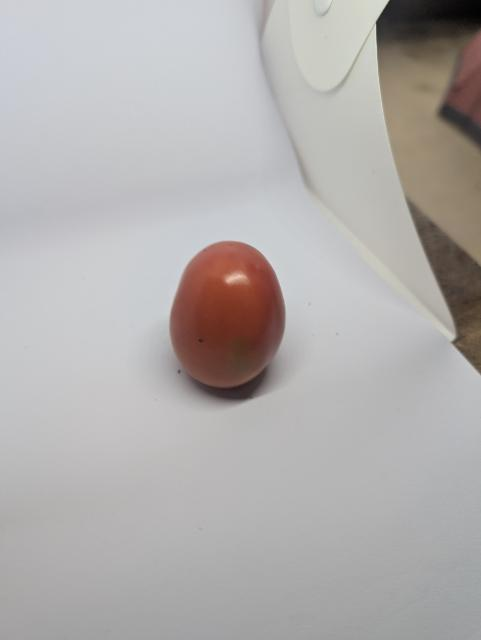red: (164, 235, 299, 414)
